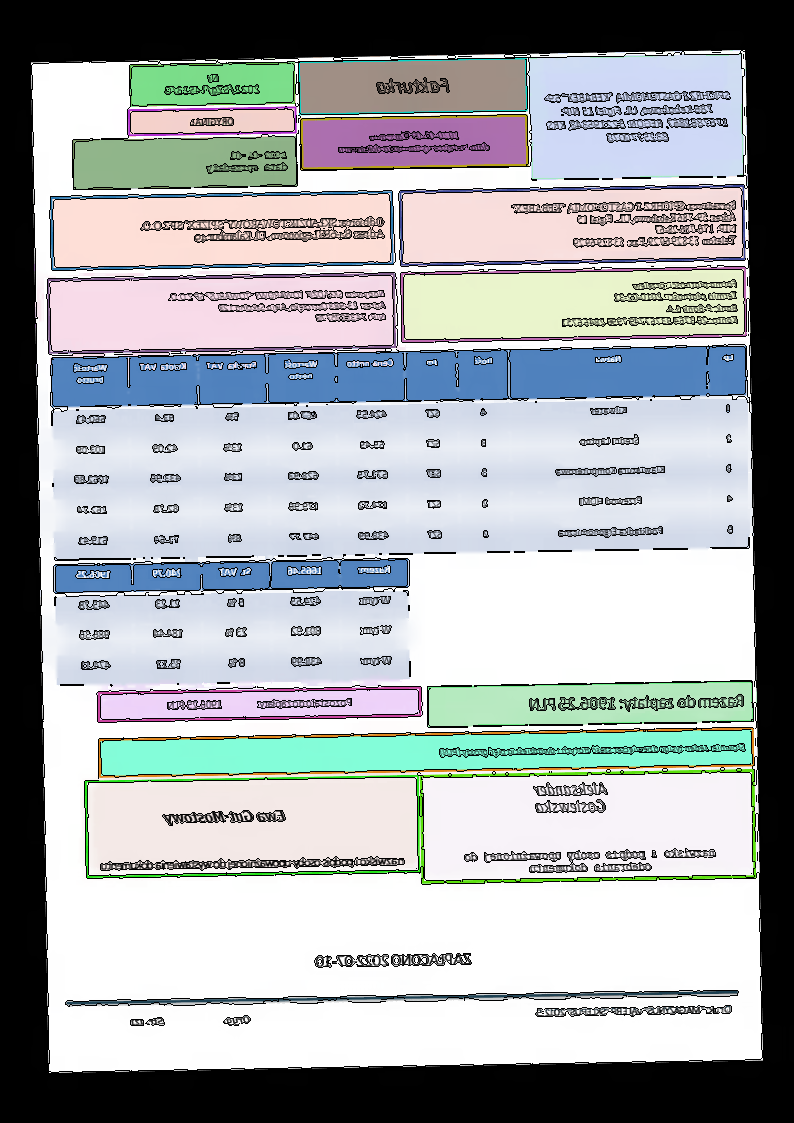Table: (50, 344, 751, 562), (54, 558, 412, 686)
TextBox: (509, 197, 739, 251), (543, 87, 736, 147), (559, 277, 741, 329), (167, 287, 389, 327), (464, 845, 718, 876), (140, 214, 389, 245), (100, 853, 408, 874), (438, 740, 747, 758), (528, 691, 746, 714), (336, 128, 492, 156), (314, 949, 475, 971), (534, 1003, 735, 1020), (167, 695, 354, 712), (161, 806, 288, 829), (529, 780, 610, 816), (163, 70, 263, 98), (204, 148, 289, 176), (128, 1013, 254, 1028), (375, 76, 453, 98), (188, 115, 237, 127)
